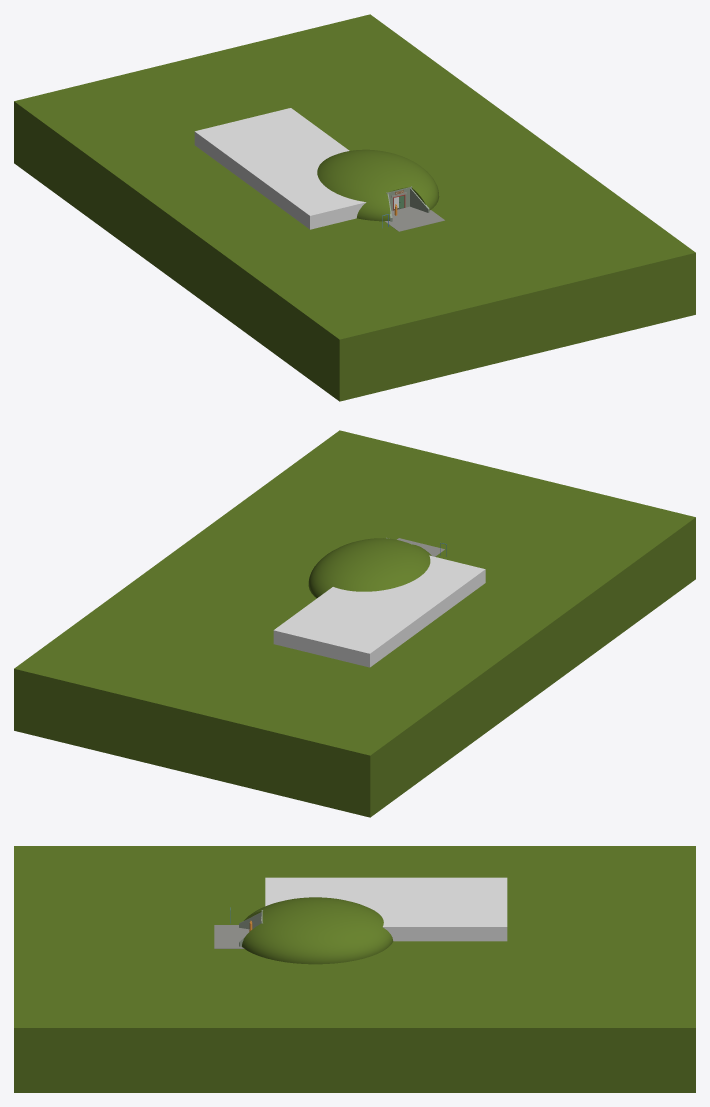
Rendered from ark_two_v004.glb.
The picture shows the model from 3 angles, top to bottom: view 1: azimuth 30°, elevation 25°; view 2: azimuth 150°, elevation 25°; view 3: azimuth 270°, elevation 25°; orthographic projection. The views are drawn at different scales.
Parts seen in each view (by area): view 1: Ground_Soil, Zone_Interior, Earth_Mound, Apron_Concrete; view 2: Ground_Soil, Zone_Interior, Earth_Mound; view 3: Ground_Soil, Zone_Interior, Earth_Mound, Apron_Concrete.
Boxes of the visible parts, box(x1,y1,x2,y2) form: Ground_Soil: box(14, 14, 695, 401); Zone_Interior: box(194, 108, 398, 229); Earth_Mound: box(317, 149, 439, 221); Apron_Concrete: box(385, 206, 444, 231); Ground_Soil: box(14, 430, 695, 817); Zone_Interior: box(273, 555, 485, 667); Earth_Mound: box(308, 538, 431, 597); Ground_Soil: box(14, 846, 695, 1092); Zone_Interior: box(265, 877, 507, 941); Earth_Mound: box(242, 897, 393, 964); Apron_Concrete: box(214, 925, 249, 948).
Bounding box in the file's own units: 60 × 14.4 × 95.
